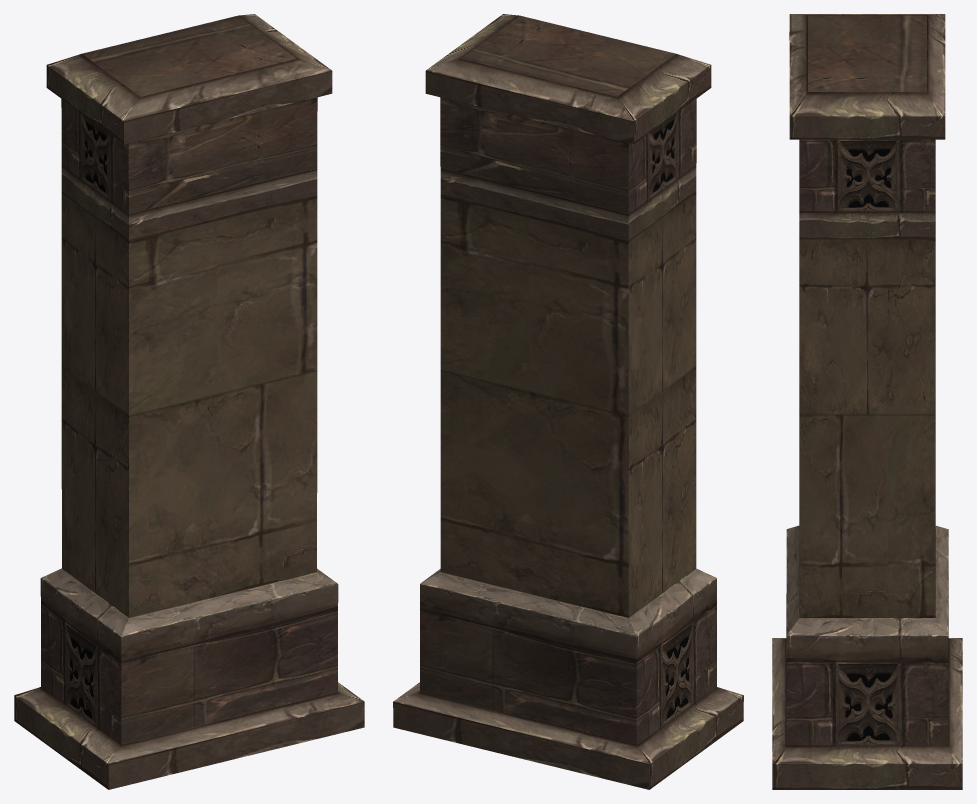
File: A03_pillar_e_long.FBX
The picture shows the model from 3 angles, left to right: view 1: azimuth 30°, elevation 25°; view 2: azimuth 150°, elevation 25°; view 3: azimuth 270°, elevation 25°; orthographic projection.
Visible parts, largest first — view 1: A03_pillar_e_long; view 2: A03_pillar_e_long; view 3: A03_pillar_e_long.
Boxes of the visible parts, left/top/right/bottom form: A03_pillar_e_long: left=14, top=14, right=364, bottom=789; A03_pillar_e_long: left=393, top=14, right=743, bottom=789; A03_pillar_e_long: left=772, top=14, right=962, bottom=789.
Bounding box in the file's own units: 2.47 × 6.16 × 1.58.
